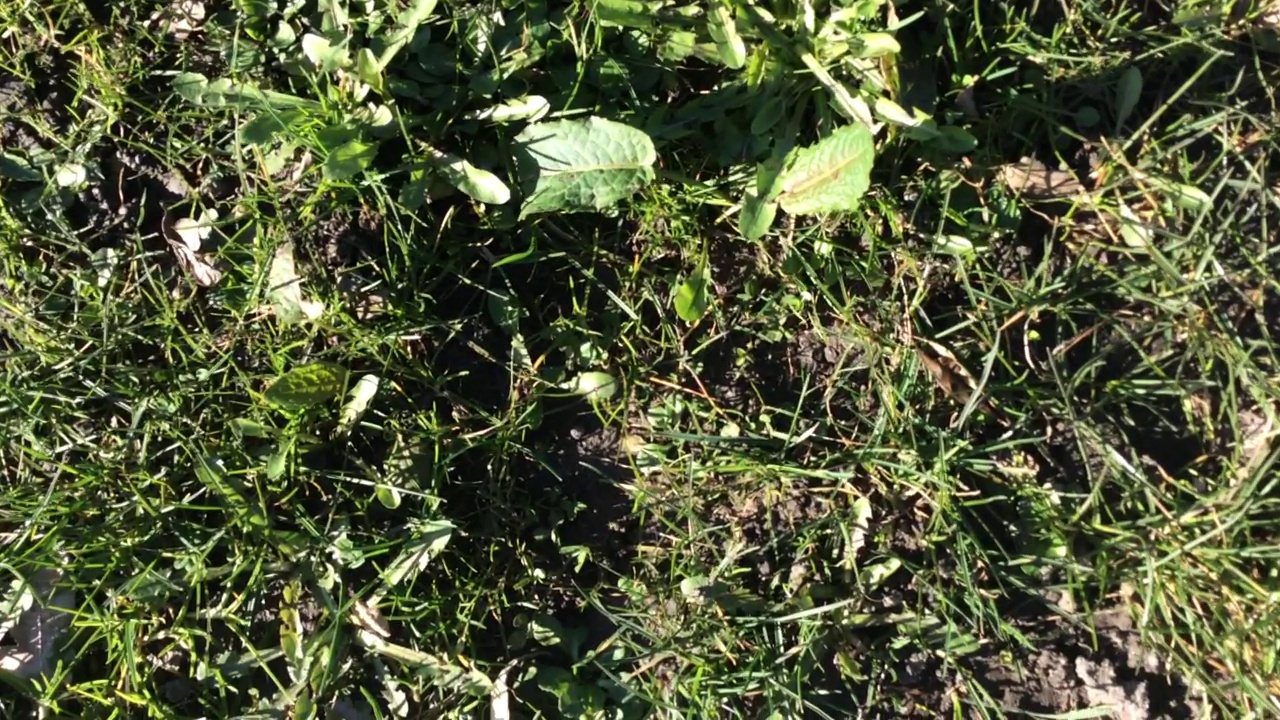rumex: (494, 117, 655, 226), (760, 125, 875, 216)
